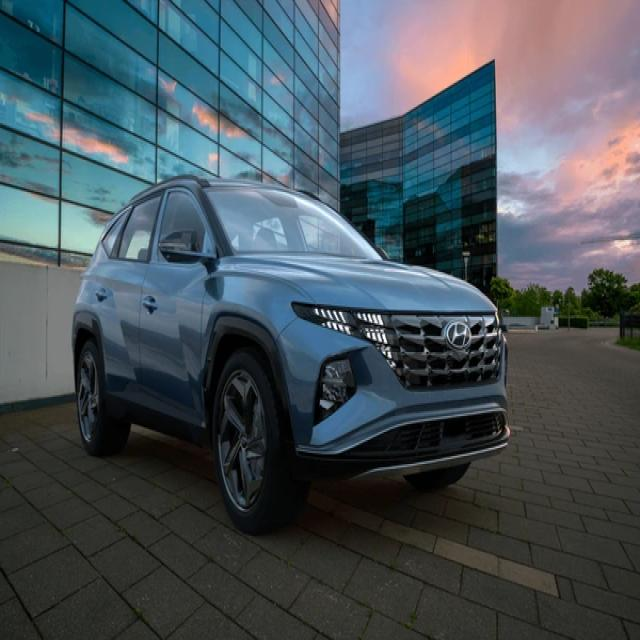hyundai: (442, 319, 473, 350)
